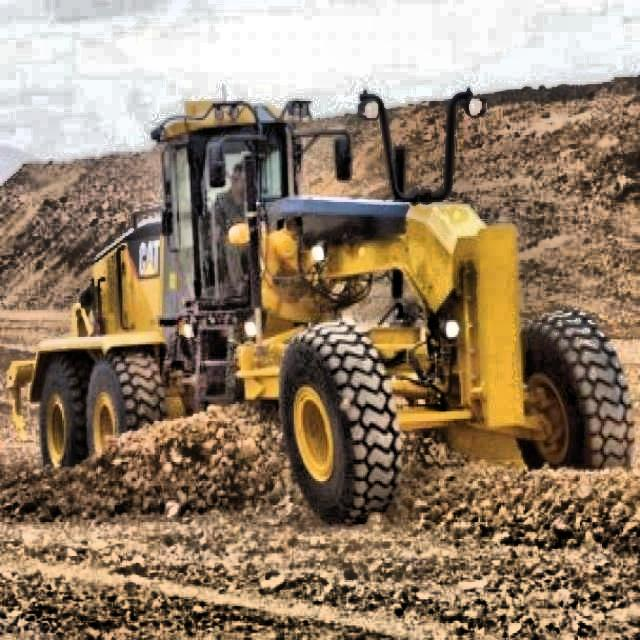bull_dozer/loader/grader: (5, 80, 638, 528)
person: (209, 162, 251, 301)
